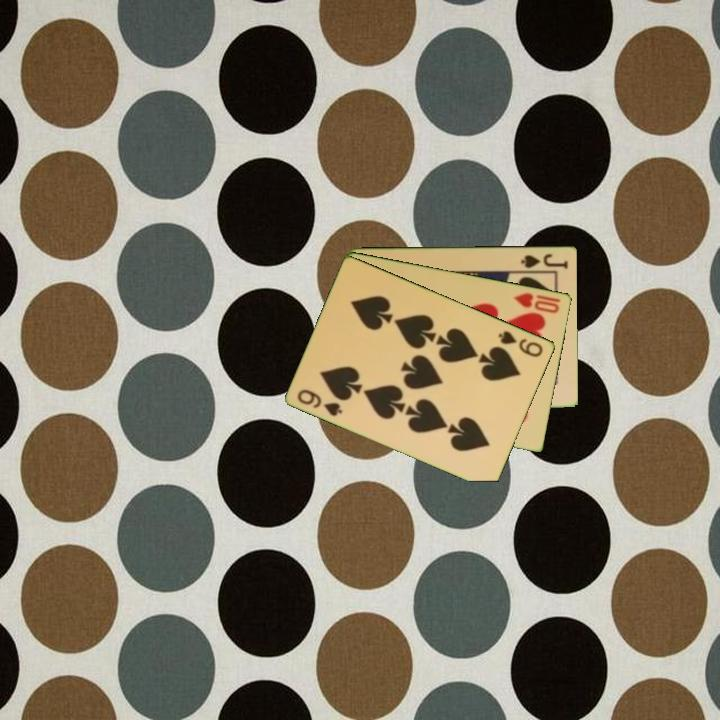10h: (510, 289, 563, 316)
9s: (294, 385, 346, 419), (495, 327, 546, 360)
Js: (518, 250, 571, 271)
